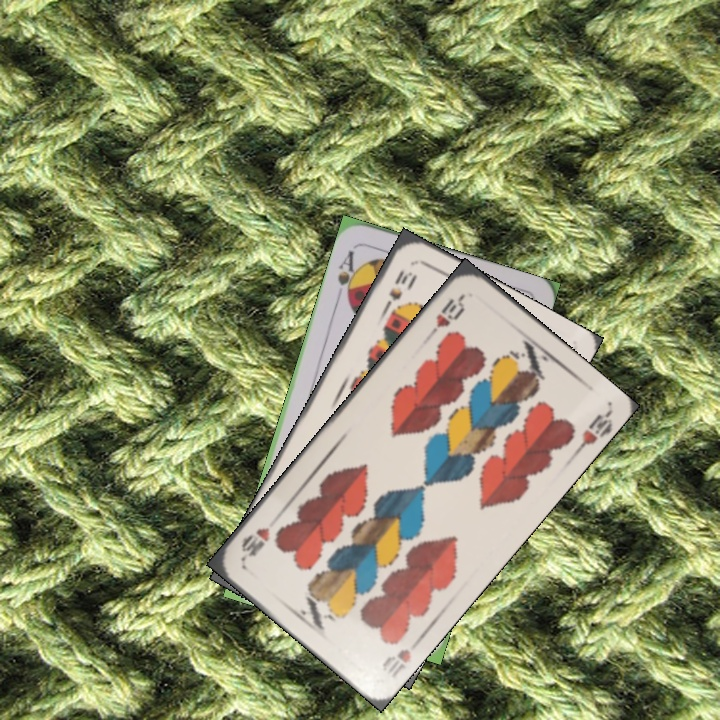H10: (378, 633, 425, 681), (424, 290, 468, 339)
S10: (379, 266, 417, 315)
SA: (333, 246, 363, 304)
